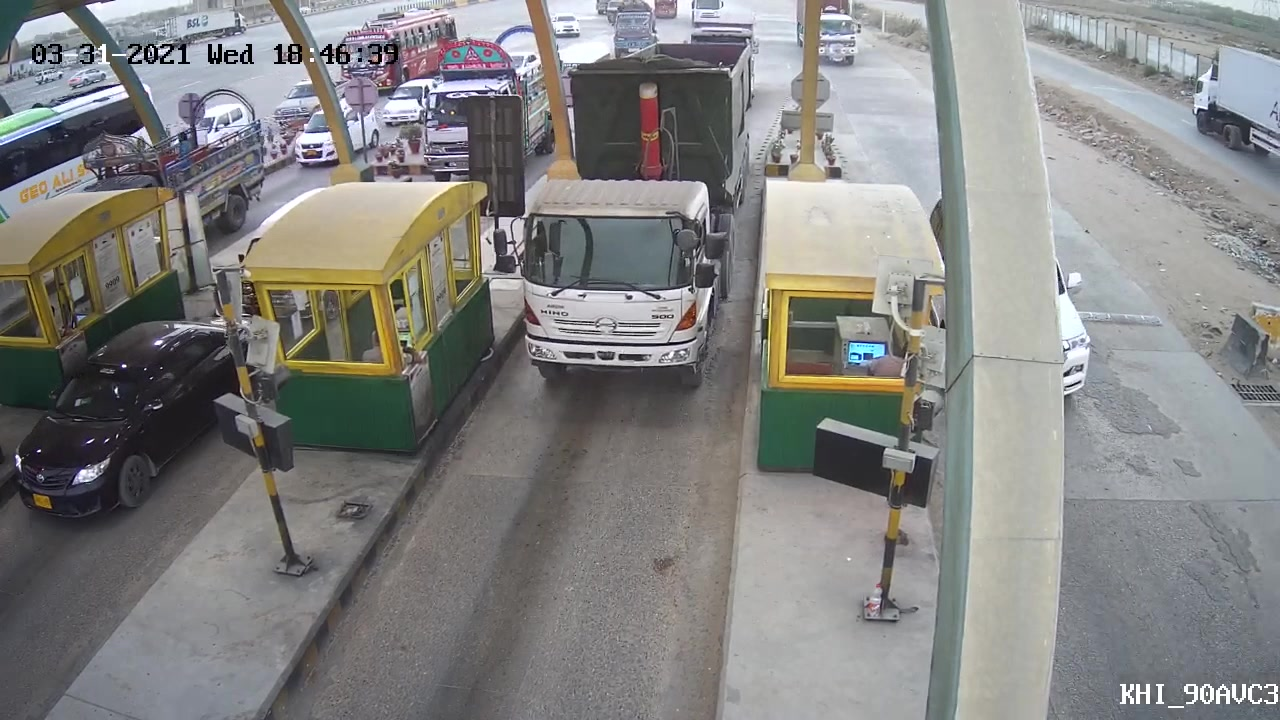F5: (484, 43, 763, 384)
